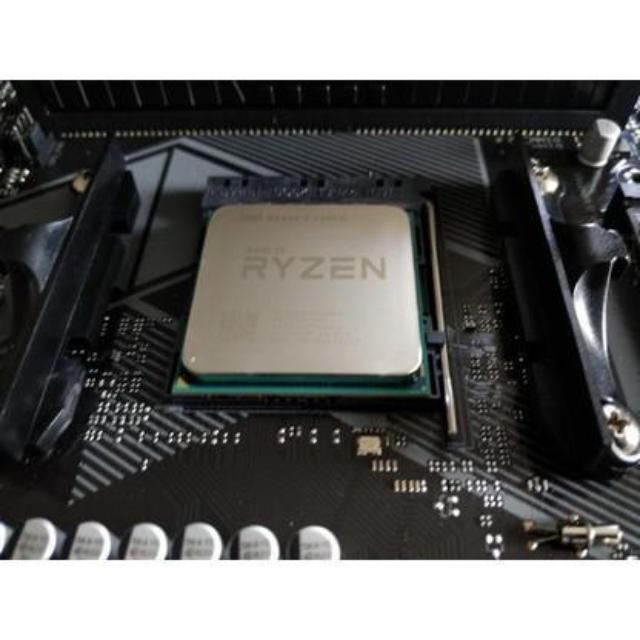CPU: (172, 196, 423, 390)
